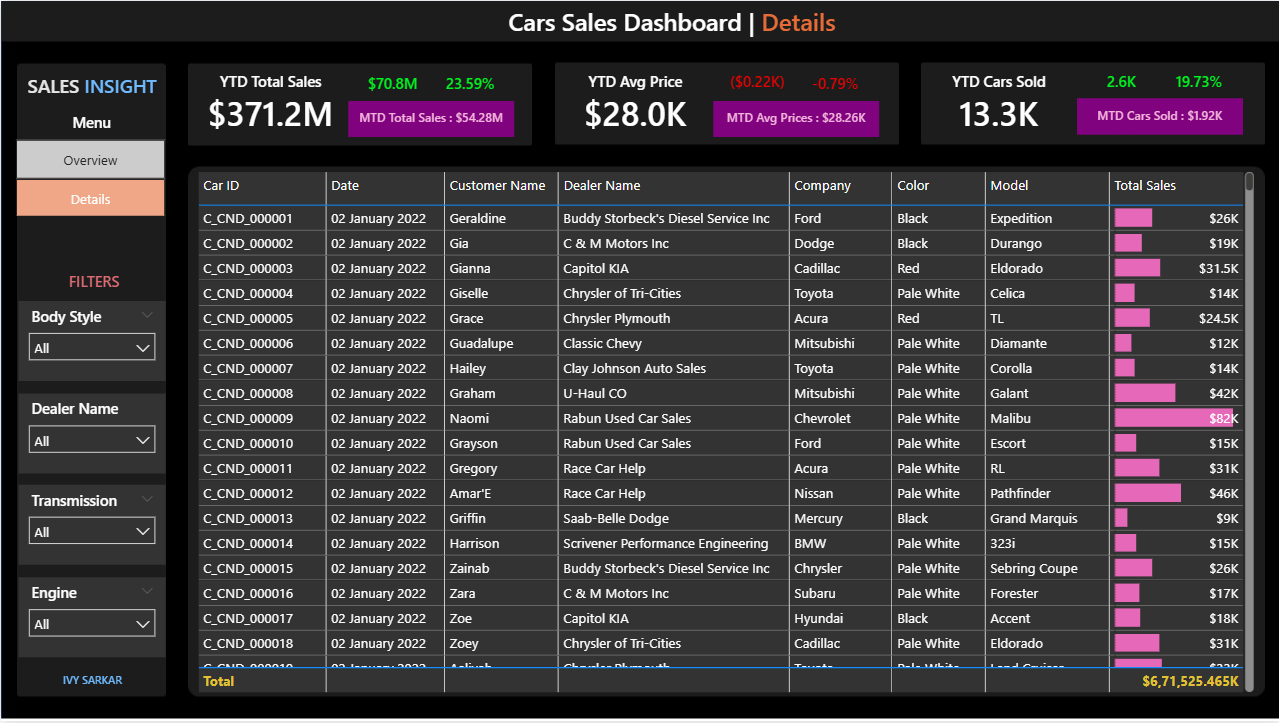

Layout of this report page (visuals, bound fields, positions):
{"tool":"powerbi","page":{"name":"Details","canvas":[1280,720],"ordinal":1},"visuals":[{"type":"card","title":"YTD Total Sales","fields":{"Values":["car_data.YTD Total Sales"]},"box":[191.8,70,156.8,68.8],"z":0},{"type":"card","title":"YTD ToTal Sales","fields":{"Values":["car_data.Sales Differnce"]},"box":[347.6,70.3,88.4,30.3],"z":1000},{"type":"card","title":"YTD ToTal Sales","fields":{"Values":["car_data.YOY Sales Growth"]},"box":[425.1,70.3,88.4,30.3],"z":2000},{"type":"card","fields":{"Values":["car_data.MTD KPI"]},"box":[347.6,100.5,165.9,36.3],"z":3000},{"type":"card","title":"YTD Avg Price","fields":{"Values":["car_data.YTD Avg Price"]},"box":[555.9,70.3,156.2,69],"z":4000},{"type":"card","title":"YTD ToTal Sales","fields":{"Values":["car_data.Avg Price Diff"]},"box":[712.4,67.9,87.9,30.1],"z":5000},{"type":"card","title":"YTD ToTal Sales","fields":{"Values":["car_data.YOY Avg Price Growth"]},"box":[789.7,70.3,88.4,30.3],"z":6000},{"type":"card","fields":{"Values":["car_data.MTD Avg Price KPI"]},"box":[712.2,100.5,165.9,36.3],"z":7000},{"type":"card","title":"YTD Cars Sold","fields":{"Values":["car_data.YTD Cars Sold"]},"box":[920.6,70.1,155.8,69],"z":8000},{"type":"card","title":"YTD ToTal Sales","fields":{"Values":["car_data.Cars Sold Diff"]},"box":[1076.8,67.8,88.4,30.3],"z":9000},{"type":"card","title":"YTD ToTal Sales","fields":{"Values":["car_data.YOY Cars Sold Growth"]},"box":[1154.3,67.8,88.4,30.3],"z":10000},{"type":"card","fields":{"Values":["car_data.MTD Cars Sold KPI"]},"box":[1076.8,98.1,165.9,36.3],"z":11000},{"type":"textbox","box":[338.4,0,664.6,43.4],"z":12000},{"type":"slicer","fields":{"Values":["car_data.Body Style"]},"box":[17.4,299.9,147.2,79.6],"z":13000},{"type":"slicer","fields":{"Values":["car_data.Dealer_Name"]},"box":[17.4,392,147.2,79.6],"z":14000},{"type":"slicer","fields":{"Values":["car_data.Transmission"]},"box":[17.4,484.1,147.2,79.6],"z":15000},{"type":"slicer","fields":{"Values":["car_data.Engine"]},"box":[17.4,576.2,147.2,79.6],"z":16000},{"type":"tableEx","fields":{"Values":["car_data.Car_id","car_data.Date","car_data.Customer Name","car_data.Dealer_Name","car_data.Company","car_data.Color","car_data.Model","Sum(car_data.Price ($))"]},"box":[191.8,166.5,1066.5,529.6],"z":17000},{"type":"textbox","box":[16.9,67.6,147.2,37.4],"z":18000},{"type":"textbox","box":[6.5,265.4,173.7,30.2],"z":19000},{"type":"textbox","box":[3.6,106.2,173.7,30.2],"z":20000},{"type":"pageNavigator","box":[14.5,138.7,149.6,76],"z":21000},{"type":"textbox","box":[17.4,664,147.7,37.2],"z":22000}]}

Visuals, with their boxes in screenshot pixels (x1, y1, x2, y2), scaled from the page's 1280x720 canvas onto the 1279x723 screenshot:
"YTD Total Sales" card: BBox(192, 70, 348, 139)
"YTD ToTal Sales" card: BBox(347, 71, 436, 101)
"YTD ToTal Sales" card: BBox(425, 71, 513, 101)
card - car_data.MTD KPI: BBox(347, 101, 513, 137)
"YTD Avg Price" card: BBox(555, 71, 712, 140)
"YTD ToTal Sales" card: BBox(712, 68, 800, 98)
"YTD ToTal Sales" card: BBox(789, 71, 877, 101)
card - car_data.MTD Avg Price KPI: BBox(712, 101, 877, 137)
"YTD Cars Sold" card: BBox(920, 70, 1076, 140)
"YTD ToTal Sales" card: BBox(1076, 68, 1164, 99)
"YTD ToTal Sales" card: BBox(1153, 68, 1242, 99)
card - car_data.MTD Cars Sold KPI: BBox(1076, 99, 1242, 135)
textbox: BBox(338, 0, 1002, 44)
slicer - car_data.Body Style: BBox(17, 301, 164, 381)
slicer - car_data.Dealer_Name: BBox(17, 394, 164, 474)
slicer - car_data.Transmission: BBox(17, 486, 164, 566)
slicer - car_data.Engine: BBox(17, 579, 164, 659)
tableEx - car_data.Car_id x car_data.Date: BBox(192, 167, 1257, 699)
textbox: BBox(17, 68, 164, 105)
textbox: BBox(6, 267, 180, 297)
textbox: BBox(4, 107, 177, 137)
pageNavigator: BBox(14, 139, 164, 216)
textbox: BBox(17, 667, 165, 704)
